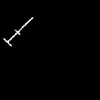double_crochet: (4, 18, 31, 45)
